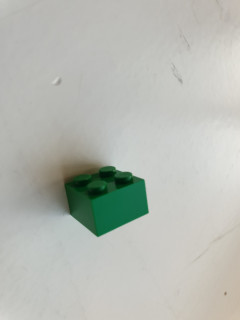2x2 green: (63, 165, 150, 237)
